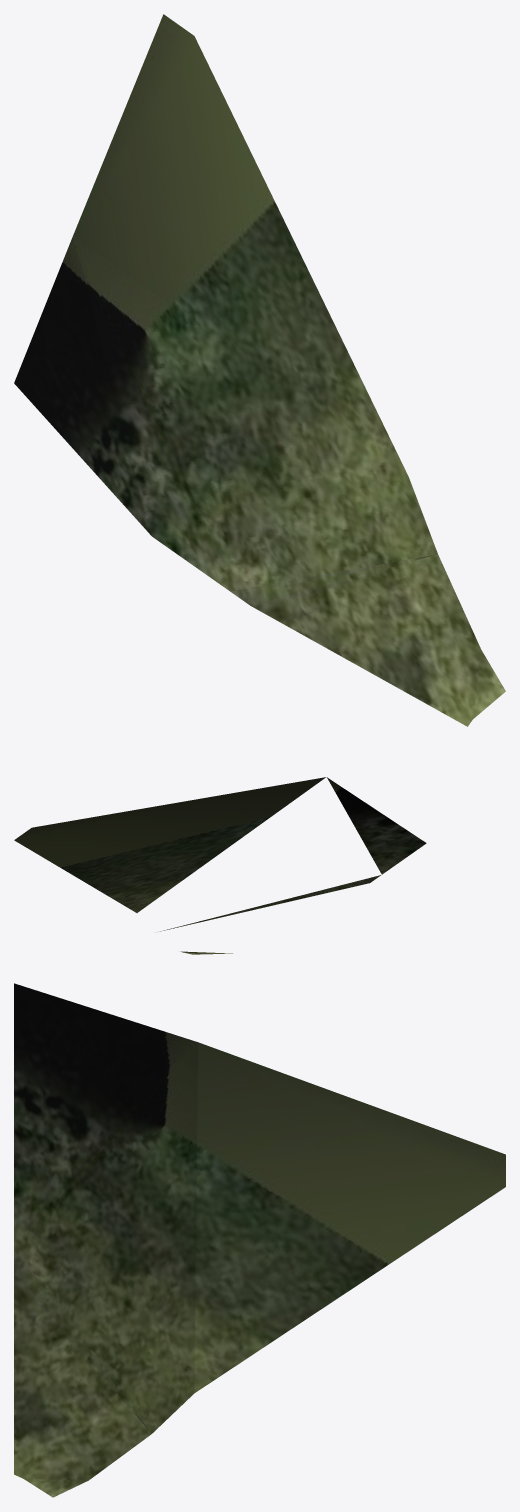
The picture shows the model from 3 angles, top to bottom: view 1: azimuth 30°, elevation 25°; view 2: azimuth 150°, elevation 25°; view 3: azimuth 270°, elevation 25°; orthographic projection. The views are drawn at different scales.
Size of the model in its own units: 5.22 by 4.46 by 5.9.
Materials: 2 (2 with a texture image).
